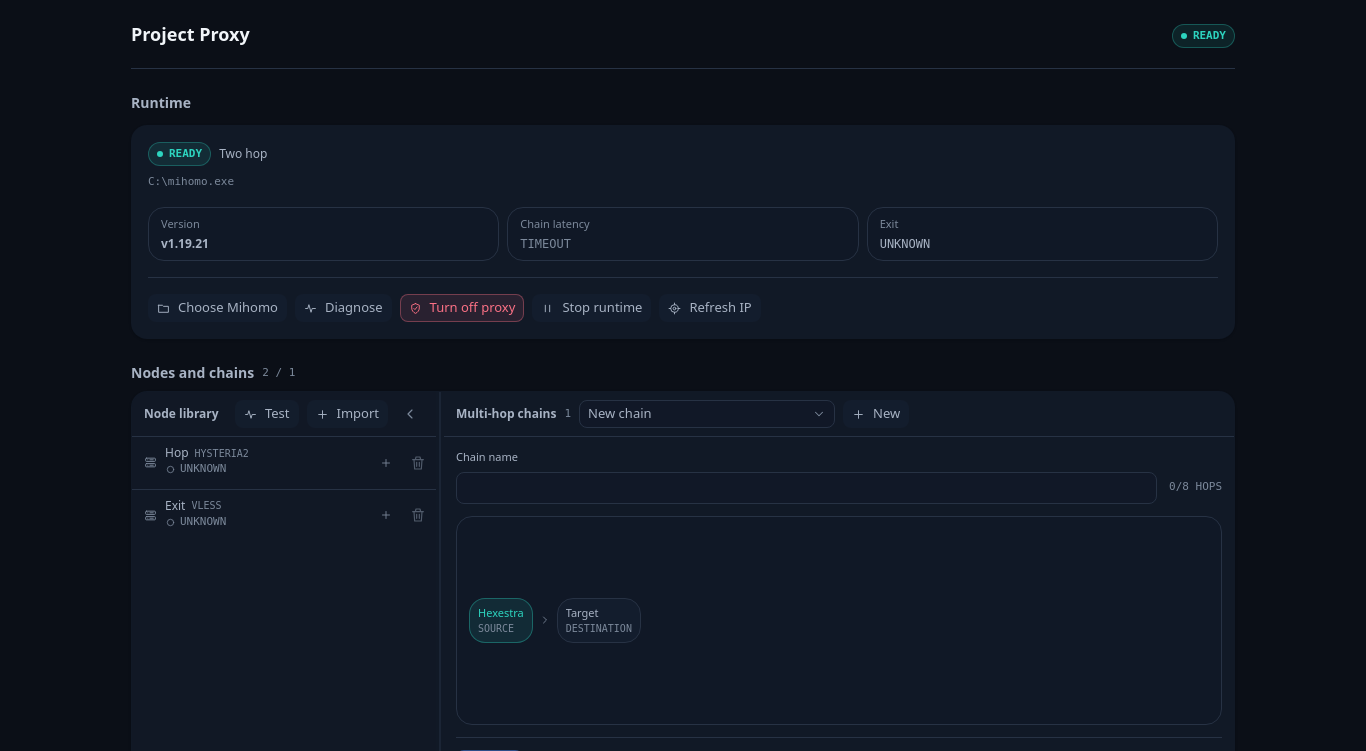
Scenario: ProxySettings › shows a timed-out hop inside the active multi-hop flow
Click the dropdown named "Select proxy chain". click: (707,414)
box: [579, 400, 835, 428]
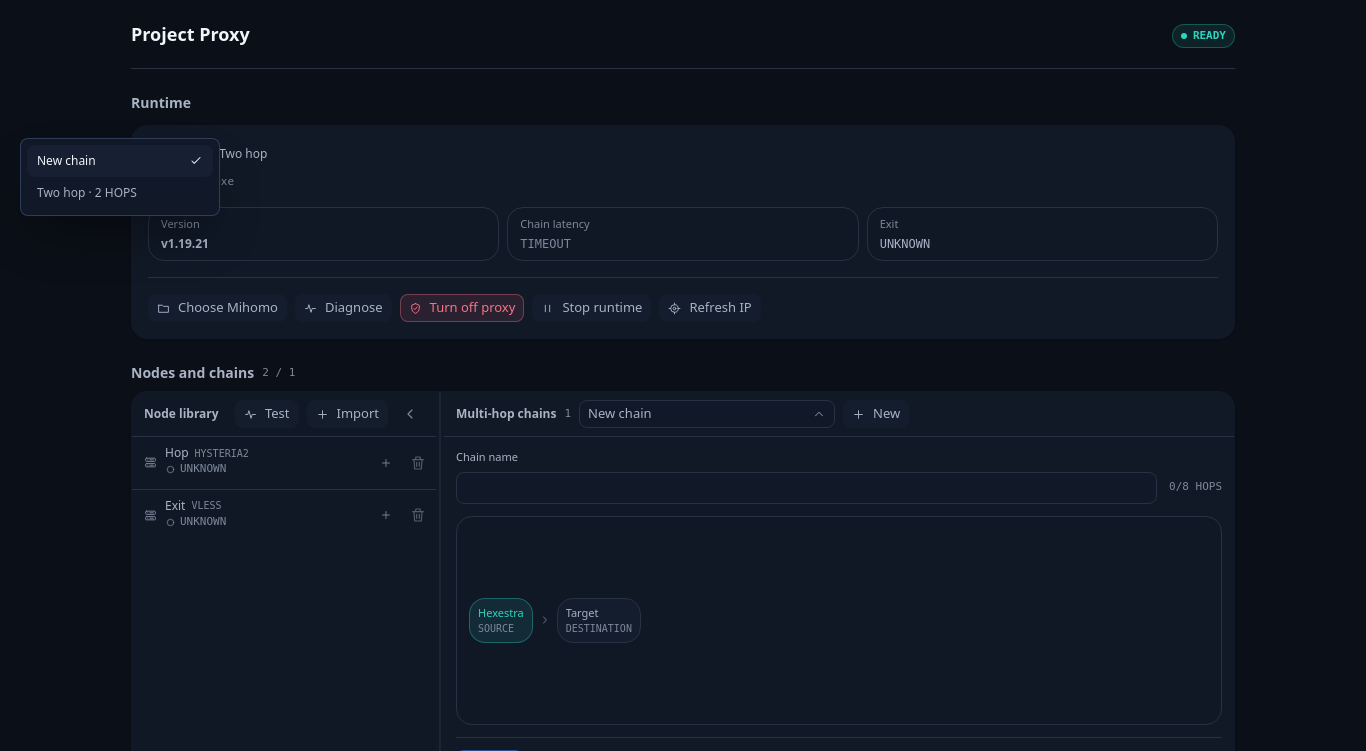
Click the option "Two hop · 2 HOPS". click: (87,192)
box: [37, 184, 137, 201]
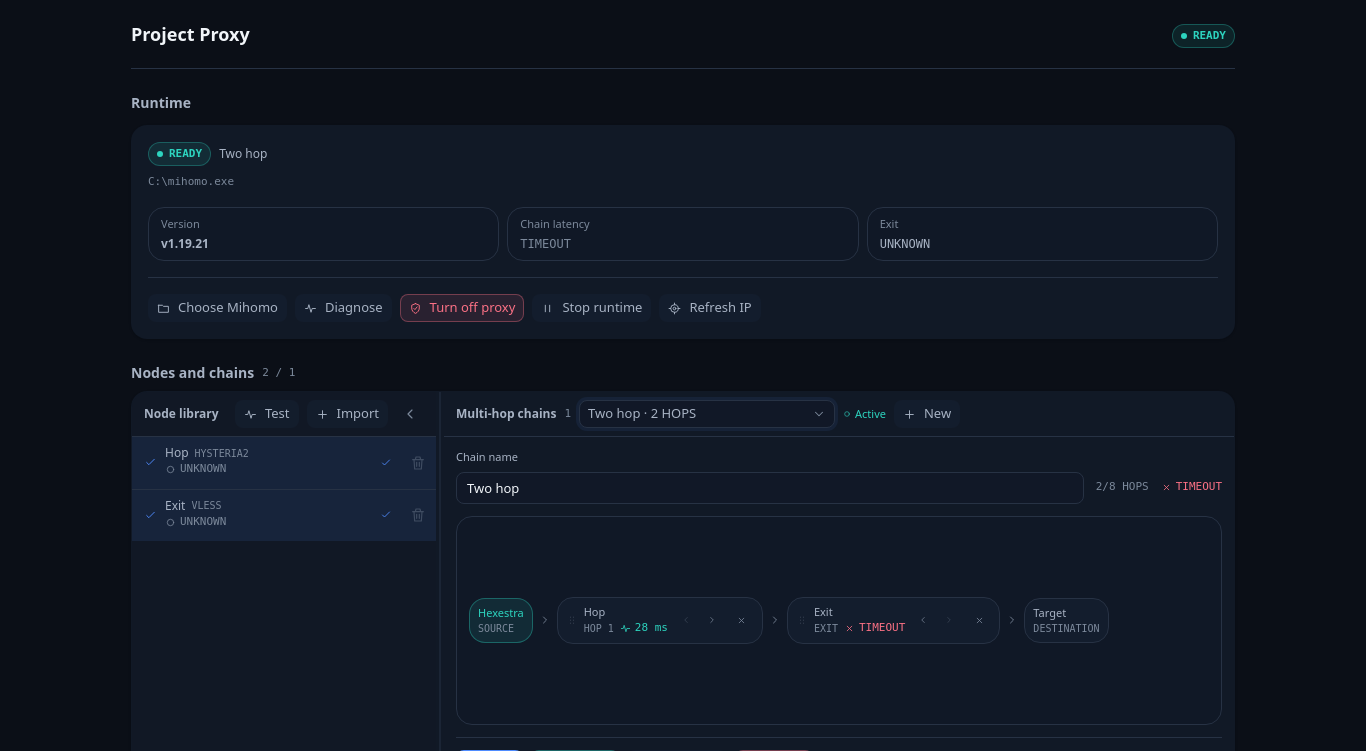
Result: the text "28 ms" is shown at [620, 620, 668, 637]
Result: the text "TIMEOUT" next to "DESTINATION" is shown at [859, 621, 905, 634]
